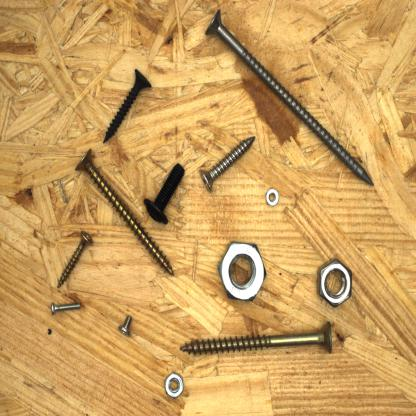screw: (202, 5, 377, 189), (72, 146, 178, 278), (175, 317, 337, 360), (98, 65, 154, 146), (196, 132, 260, 196), (140, 160, 188, 226), (52, 228, 96, 294), (48, 293, 84, 317), (115, 310, 136, 340)
